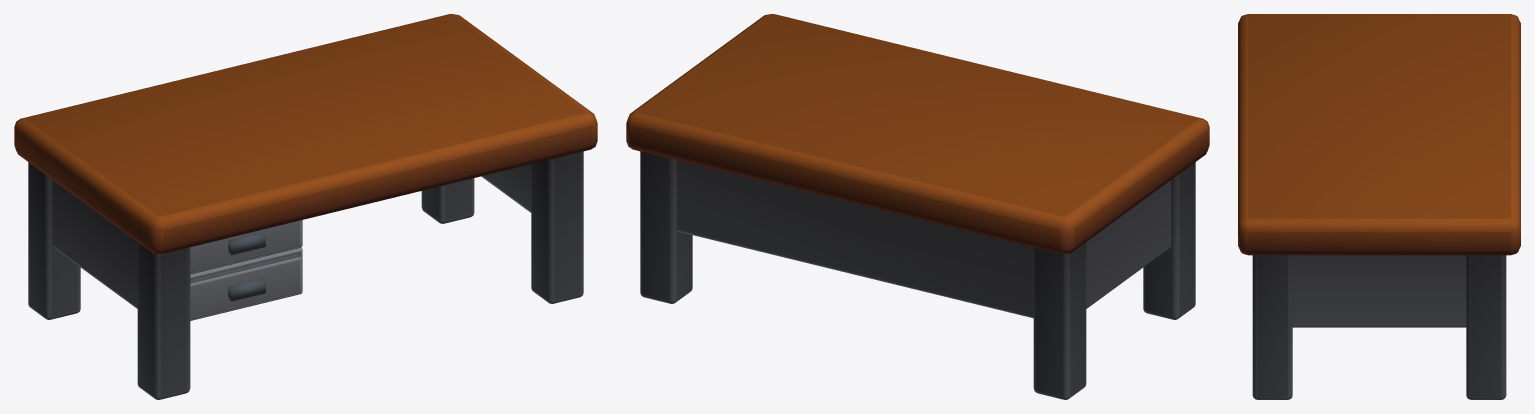
File: table1.fbx
3 views of the same model, side by side, from view 1: azimuth 30°, elevation 25°; view 2: azimuth 150°, elevation 25°; view 3: azimuth 270°, elevation 25° (orthographic). The views are drawn at different scales.
Parts seen in each view (by area): view 1: table.001; view 2: table.001; view 3: table.001.
Boxes of the visible parts, x1,y1,x2,y2 form: table.001: (14,14,597,399); table.001: (626,14,1209,399); table.001: (1238,14,1520,399).
Bounding box in the file's own units: 504 × 202 × 283.
